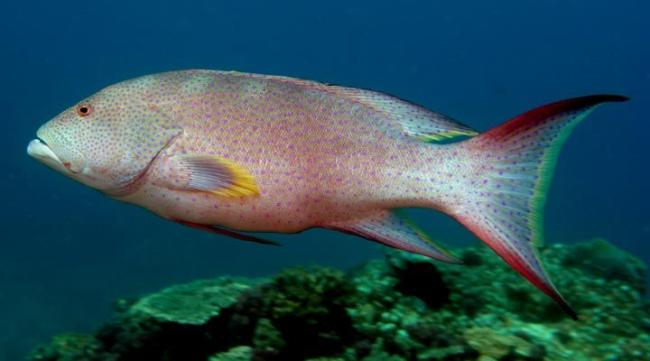fish: (26, 67, 631, 318)
